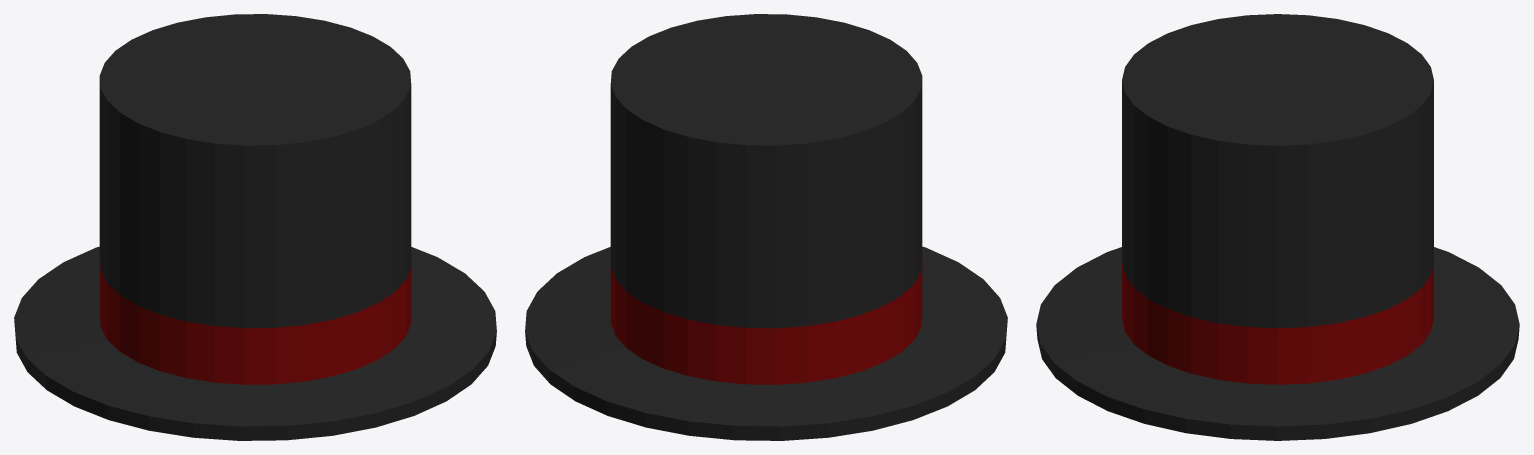
File: SnowmanHat.fbx
3 renders of one model, left to right at view 1: azimuth 30°, elevation 25°; view 2: azimuth 150°, elevation 25°; view 3: azimuth 270°, elevation 25°, orthographic.
Parts seen in each view (by area): view 1: Cylinder; view 2: Cylinder; view 3: Cylinder.
Part boxes in pixels (x1,y1,x2,y2): Cylinder: (14,14,496,440); Cylinder: (525,14,1007,440); Cylinder: (1036,14,1519,440).
Bounding box in the file's own units: 310 × 184 × 310.
